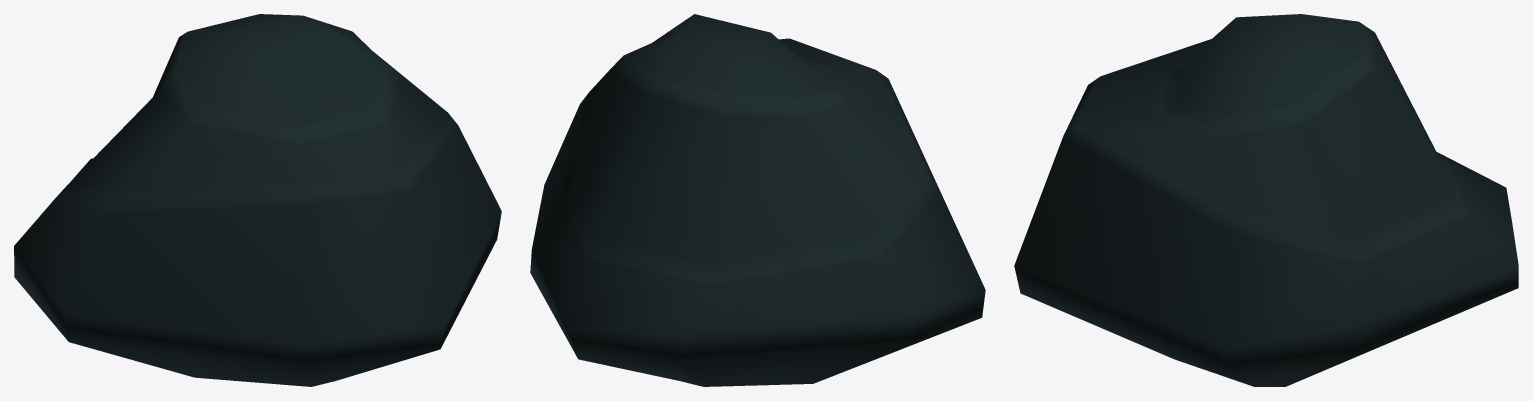
The model's file is coal_ore_S.fbx.
3 views of the same model, side by side, from view 1: azimuth 30°, elevation 25°; view 2: azimuth 150°, elevation 25°; view 3: azimuth 270°, elevation 25° (orthographic). The views are drawn at different scales.
Parts seen in each view (by area): view 1: coal_ore_S; view 2: coal_ore_S; view 3: coal_ore_S.
Boxes of the visible parts, x1,y1,x2,y2 form: coal_ore_S: [14, 14, 501, 386]; coal_ore_S: [530, 14, 985, 386]; coal_ore_S: [1014, 14, 1518, 386].
Bounding box in the file's own units: 33.88 × 23.28 × 32.86.
Materials: 1 (1 with a texture image).
